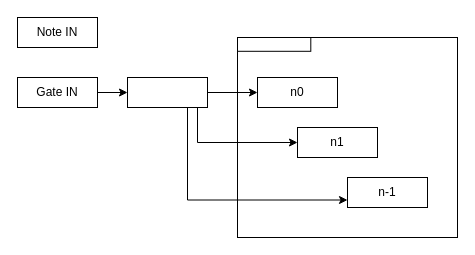
The diagram is 475 pixels wide and 255 high, and some of its shapes have lost their labels. Each missing label, with the centre of its shape:
"Active Buffer" belongs at point 273,43.
"Start" belongs at point 167,92.
